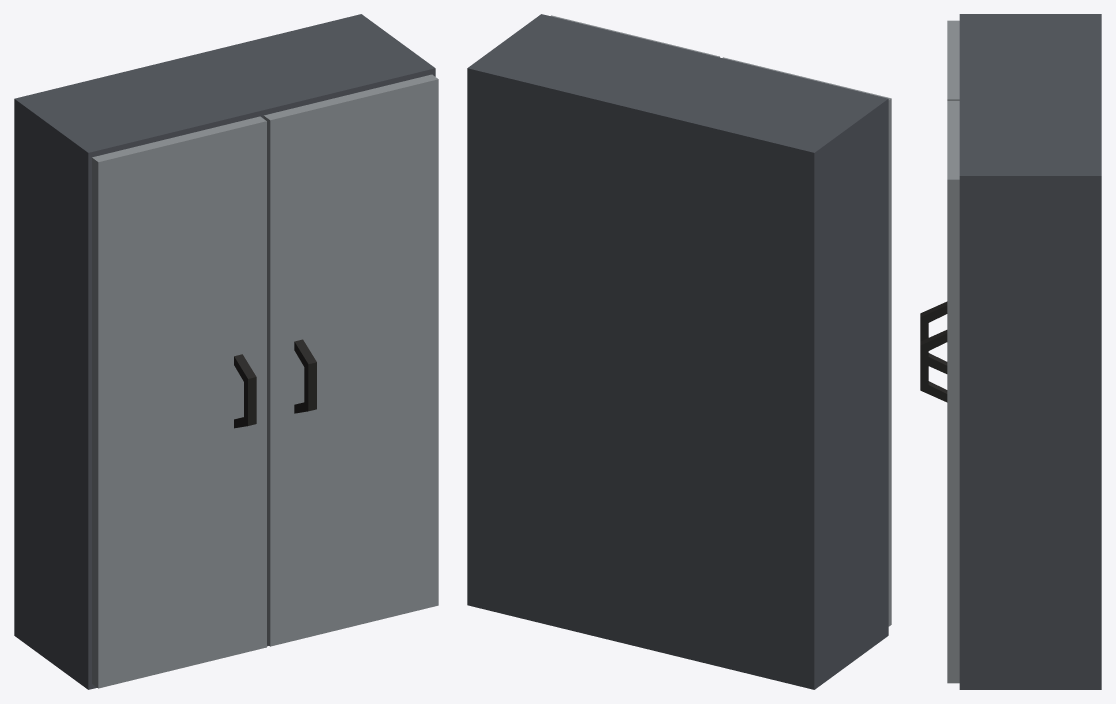
File: WardRobe_1C.fbx
3 renders of one model, left to right at view 1: azimuth 30°, elevation 25°; view 2: azimuth 150°, elevation 25°; view 3: azimuth 270°, elevation 25°, orthographic. The views are drawn at different scales.
Visible parts, largest first — view 1: polySurface1708; view 2: polySurface1708; view 3: polySurface1708.
Part boxes in pixels (bbox=[...]): polySurface1708: bbox=[14, 14, 438, 689]; polySurface1708: bbox=[467, 14, 891, 689]; polySurface1708: bbox=[920, 14, 1101, 689].
Size of the model in its own units: 2.3 by 3.4 by 1.09.
1 material, 1 textured.
